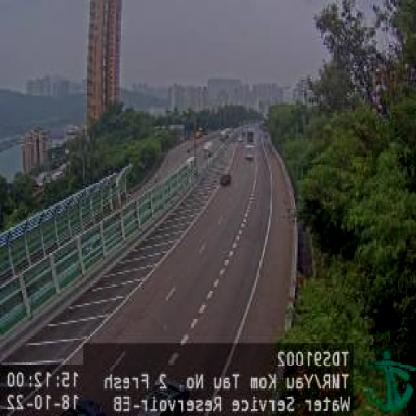Car: (220, 167, 232, 188)
Truck: (243, 144, 255, 160)
